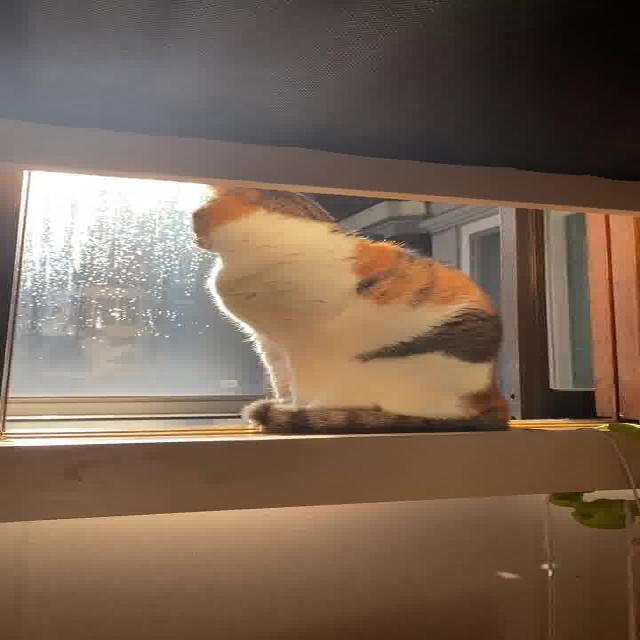cat: (176, 159, 545, 448)
